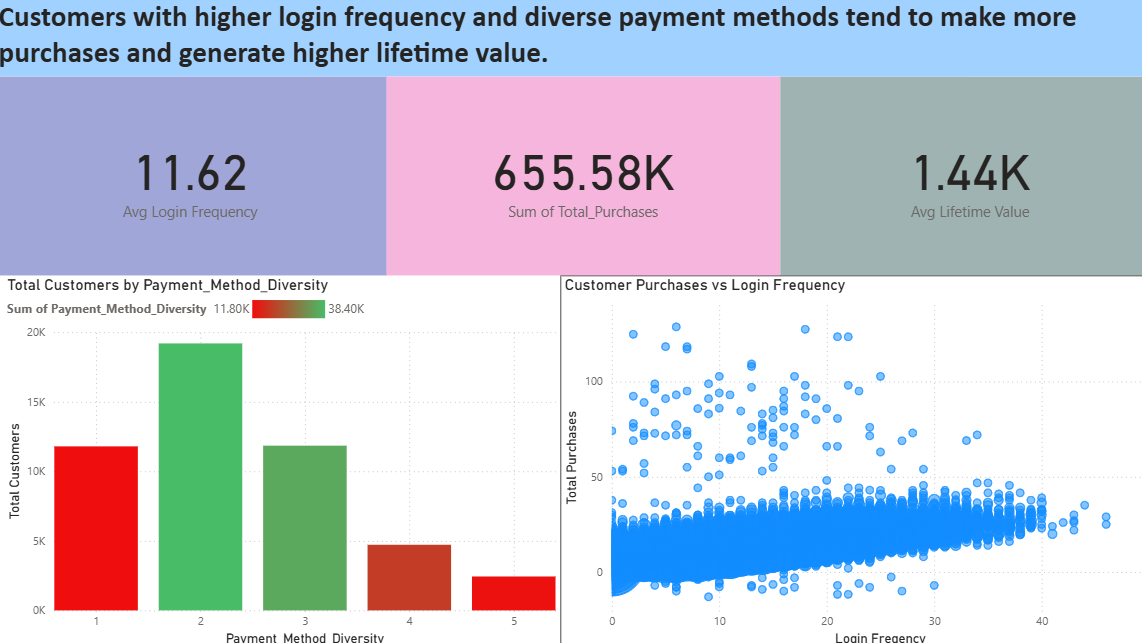

The page's visual inventory and layout, read from the dashboard file:
{"tool":"powerbi","page":{"name":"Customer Behavior Analysis","canvas":[1280,720],"ordinal":2},"visuals":[{"type":"scatterChart","title":"Customer Purchases vs Login Frequency","fields":{"X":["Payment_Method_Diversity.Login_Frequency"],"Y":["Payment_Method_Diversity.Total_Purchases"],"Size":["CountNonNull(Payment_Method_Diversity.Lifetime_Value)"]},"box":[621.6,308.7,658.7,411.7],"z":0},{"type":"clusteredColumnChart","fields":{"Category":["Payment_Method_Diversity.Payment_Method_Diversity"],"Y":["Payment_Method_Diversity.Total Customers"]},"box":[9.6,308.7,612,411.7],"z":1000},{"type":"card","fields":{"Values":["Payment_Method_Diversity.Avg Login Frequency"]},"box":[0,90.6,430.9,218.2],"z":2000},{"type":"card","fields":{"Values":["Sum(Payment_Method_Diversity.Total_Purchases)"]},"box":[430.9,90.6,432.2,218.2],"z":3000},{"type":"card","fields":{"Values":["Payment_Method_Diversity.Avg Lifetime Value"]},"box":[863.1,90.6,417.2,218.2],"z":4000},{"type":"textbox","box":[0,0,1280.3,90.6],"z":5000}]}

Visuals, with their boxes in screenshot pixels (x1, y1, x2, y2), scaled from the page's 1280x720 canvas onto the 1142x643 screenshot:
"Customer Purchases vs Login Frequency" scatterChart: [x1=555, y1=276, x2=1141, y2=642]
clusteredColumnChart - Payment_Method_Diversity.Payment_Method_Diversity x Payment_Method_Diversity.Total Customers: [x1=9, y1=276, x2=555, y2=642]
card - Payment_Method_Diversity.Avg Login Frequency: [x1=0, y1=81, x2=384, y2=276]
card - Sum(Payment_Method_Diversity.Total_Purchases): [x1=384, y1=81, x2=770, y2=276]
card - Payment_Method_Diversity.Avg Lifetime Value: [x1=770, y1=81, x2=1141, y2=276]
textbox: [x1=0, y1=0, x2=1141, y2=81]
